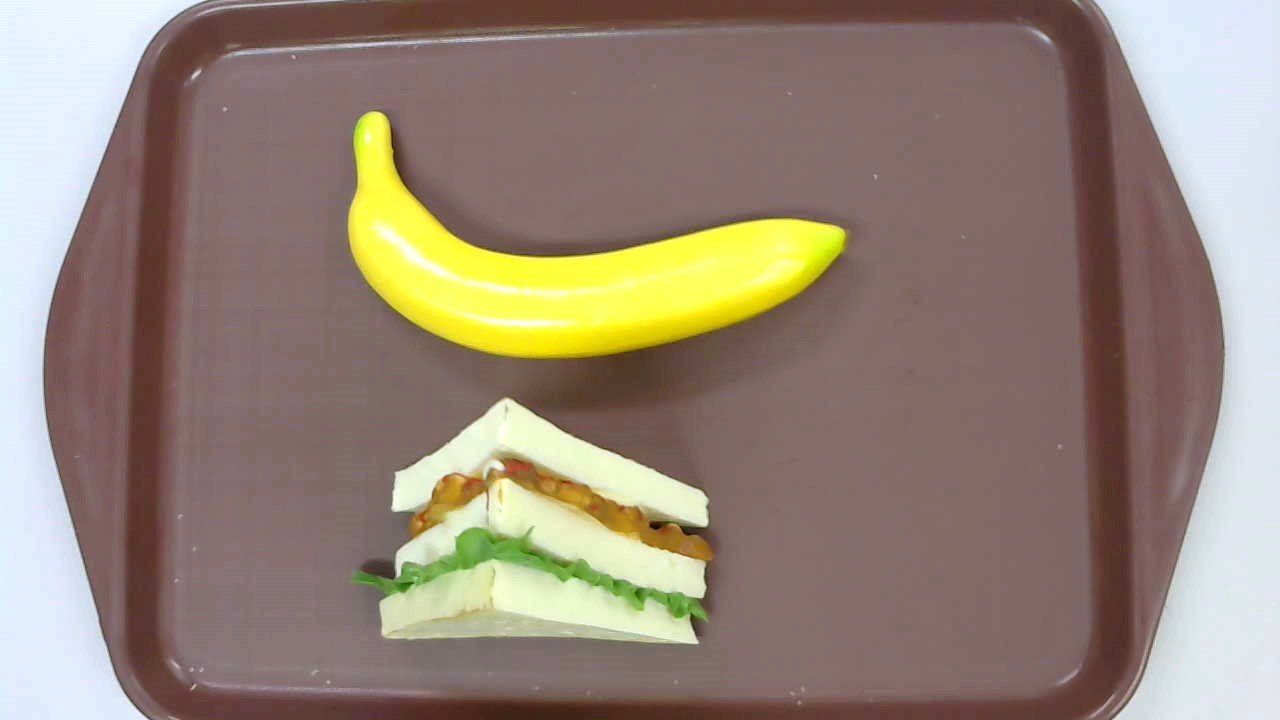banana: (347, 109, 851, 358)
sandwich: (349, 396, 715, 646)
